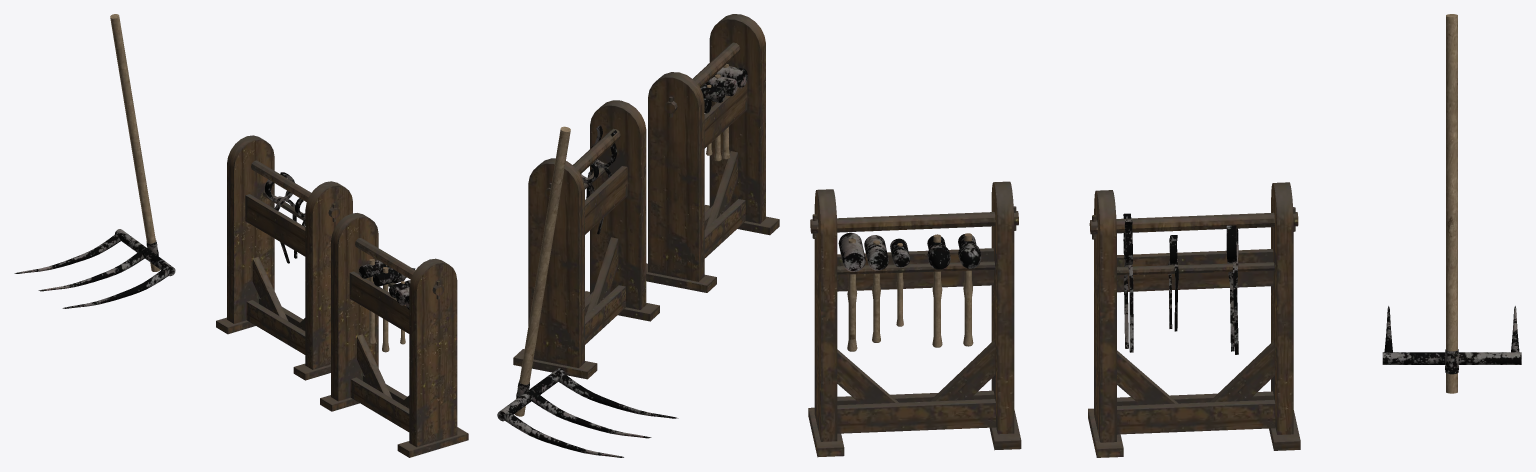
The model's file is tool-racks.glb.
3 renders of one model, left to right at view 1: azimuth 30°, elevation 25°; view 2: azimuth 150°, elevation 25°; view 3: azimuth 270°, elevation 25°, orthographic. The views are drawn at different scales.
Visible parts, largest first — view 1: pasted__polySurface167, pasted__polySurface156, pasted__polySurface162, pasted__polySurface163, pasted__polySurface164, pasted__polySurface165, pasted__polySurface166, pasted__polySurface161; view 2: pasted__polySurface167, pasted__polySurface156, pasted__polySurface162, pasted__polySurface163, pasted__polySurface164, pasted__polySurface165, pasted__polySurface166, pasted__transform11, pasted__polySurface146, pasted__polySurface104, pasted__polySurface149; view 3: pasted__polySurface156, pasted__polySurface167, pasted__polySurface162, pasted__polySurface163, pasted__transform11, pasted__polySurface161, pasted__polySurface104, pasted__polySurface150, pasted__polySurface151, pasted__polySurface103.
Boxes of the visible parts, box(x1,y1,x2,y2) form: pasted__polySurface167: box(320, 213, 468, 457); pasted__polySurface156: box(216, 135, 352, 380); pasted__polySurface162: box(110, 14, 159, 271); pasted__polySurface163: box(115, 229, 175, 276); pasted__polySurface164: box(62, 268, 170, 308); pasted__polySurface165: box(38, 250, 144, 291); pasted__polySurface166: box(14, 233, 120, 273); pasted__polySurface161: box(265, 172, 297, 263); pasted__polySurface167: box(646, 14, 779, 292); pasted__polySurface156: box(513, 100, 659, 379); pasted__polySurface162: box(514, 126, 570, 416); pasted__polySurface163: box(497, 368, 565, 421); pasted__polySurface164: box(558, 373, 678, 418); pasted__polySurface165: box(532, 392, 651, 438); pasted__polySurface166: box(505, 412, 623, 457); pasted__transform11: box(586, 125, 616, 234); pasted__polySurface146: box(704, 75, 737, 96); pasted__polySurface104: box(707, 63, 747, 88); pasted__polySurface149: box(700, 85, 725, 102); pasted__polySurface156: box(1088, 182, 1300, 457); pasted__polySurface167: box(808, 181, 1021, 457); pasted__polySurface162: box(1446, 14, 1457, 393); pasted__polySurface163: box(1382, 352, 1521, 364); pasted__transform11: box(1123, 213, 1133, 352); pasted__polySurface161: box(1226, 225, 1238, 354); pasted__polySurface104: box(838, 232, 865, 271); pasted__polySurface150: box(932, 234, 942, 347); pasted__polySurface151: box(963, 233, 973, 346); pasted__polySurface103: box(847, 238, 857, 351).
Size of the model in its own units: 0.1302 by 0.1793 by 0.3147.
3 materials, 3 textured.
